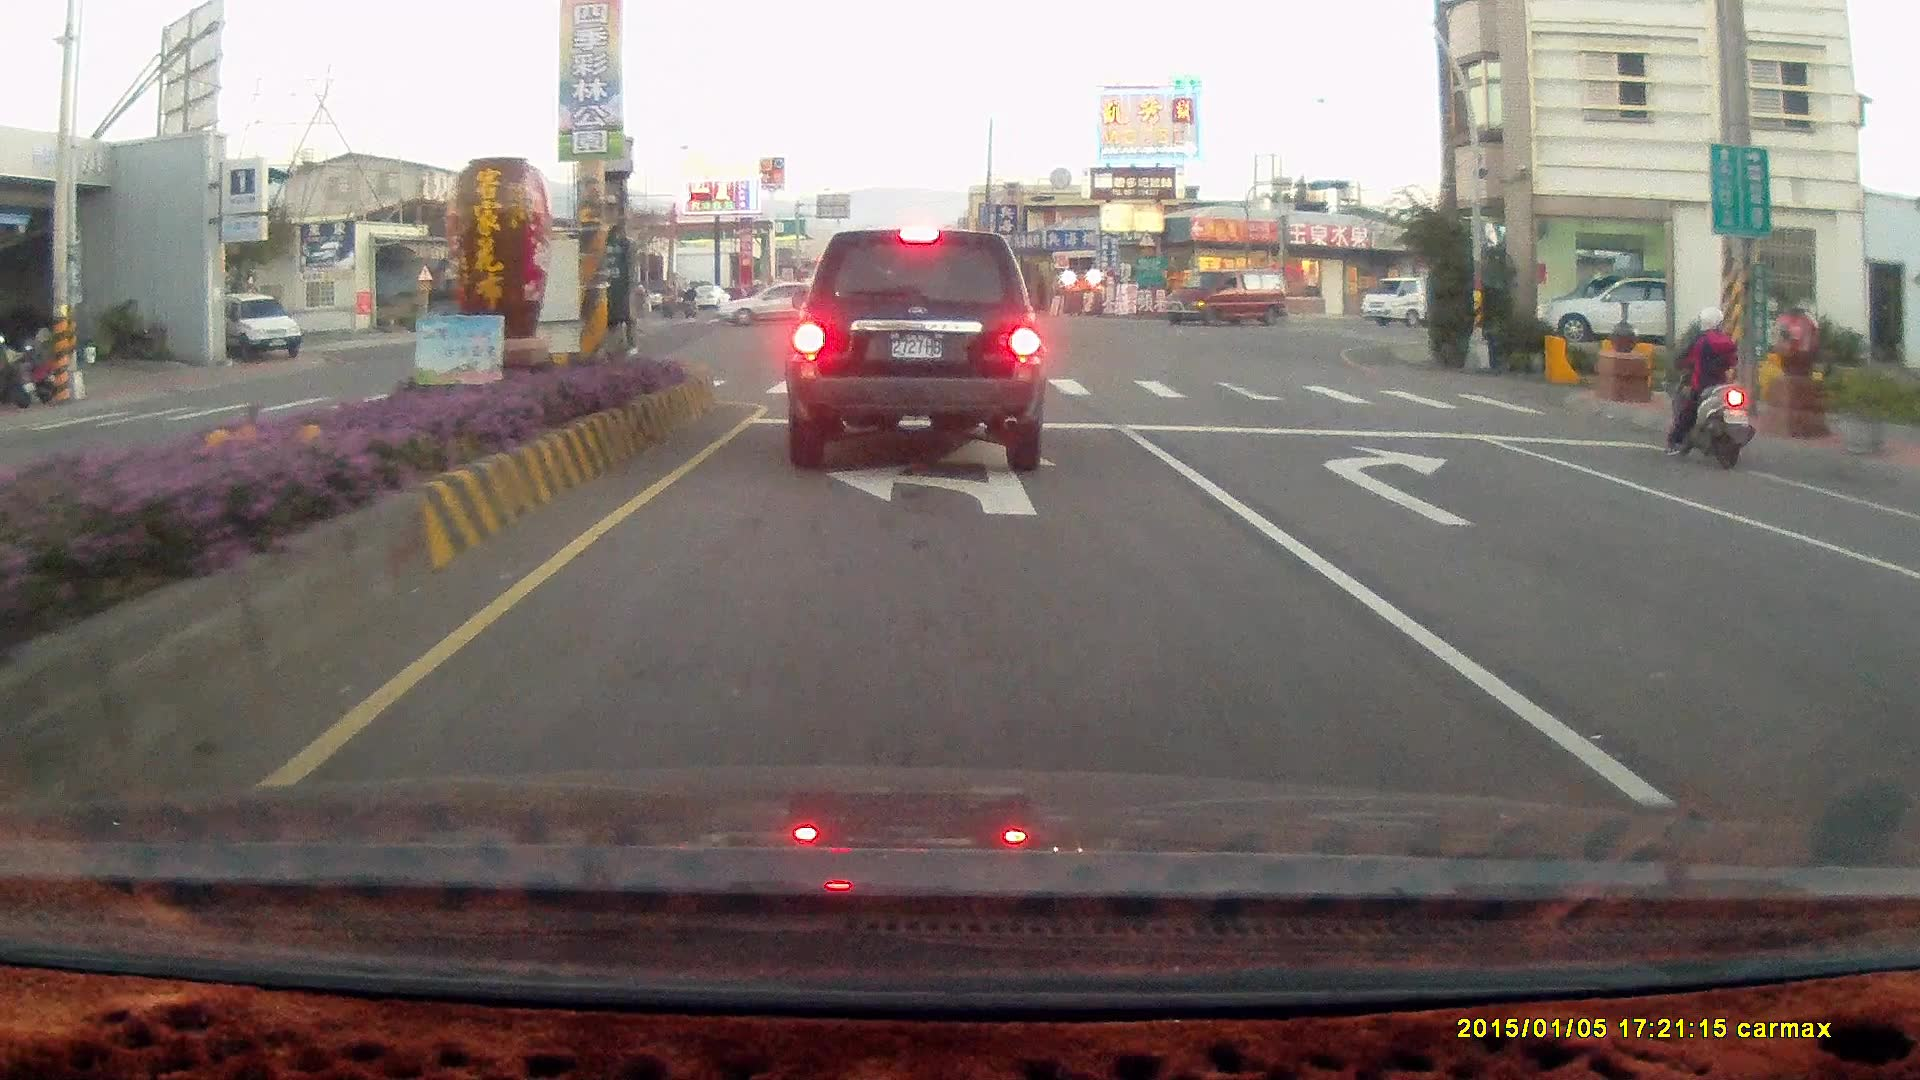rider: (1664, 303, 1753, 469)
vehicle: (782, 227, 1044, 472), (1530, 271, 1714, 348), (1896, 493, 1920, 836), (1554, 281, 1680, 344), (1158, 267, 1289, 326), (1166, 268, 1298, 326), (207, 290, 304, 361), (1883, 528, 1920, 690), (713, 279, 839, 326), (721, 281, 846, 326)
